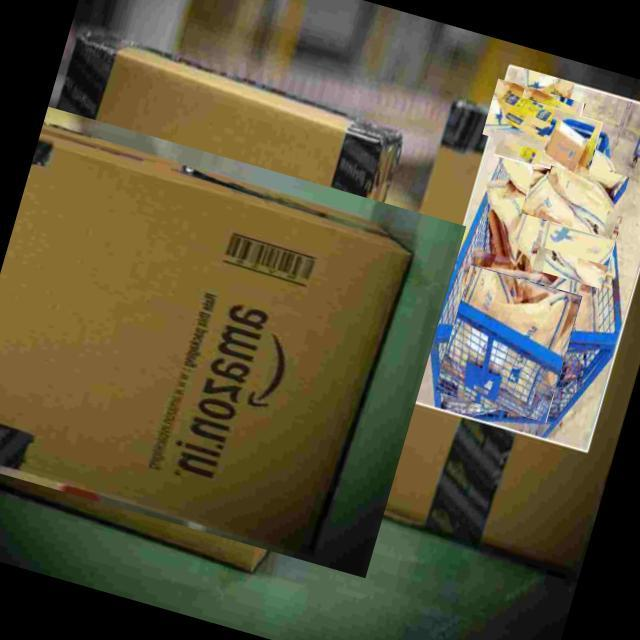cardboxes: (435, 264, 583, 423), (520, 152, 630, 240), (528, 196, 623, 290)
